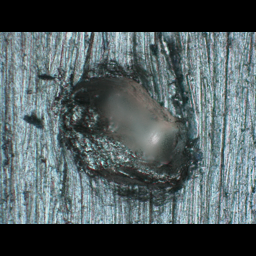d: (50, 59, 207, 210)
